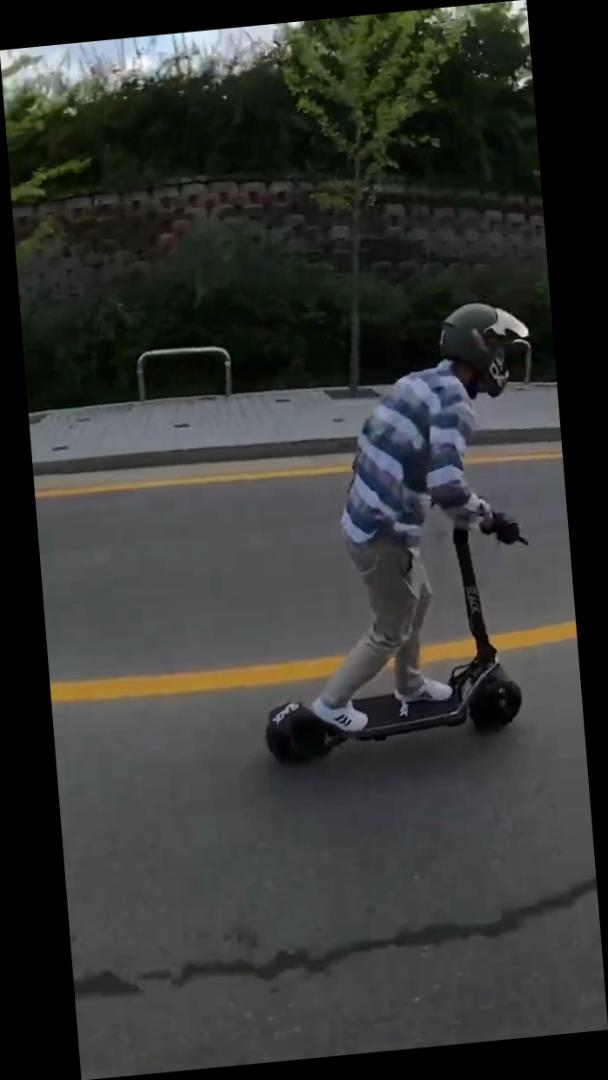helmet: (224, 293, 565, 775)
